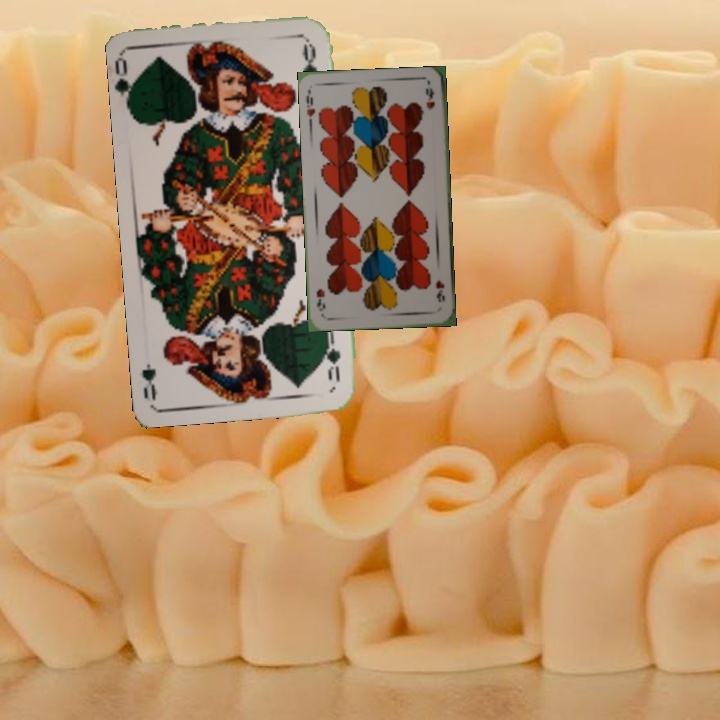GO: (113, 53, 142, 112), (321, 328, 343, 384)
H9: (302, 91, 318, 127), (431, 276, 447, 305)
